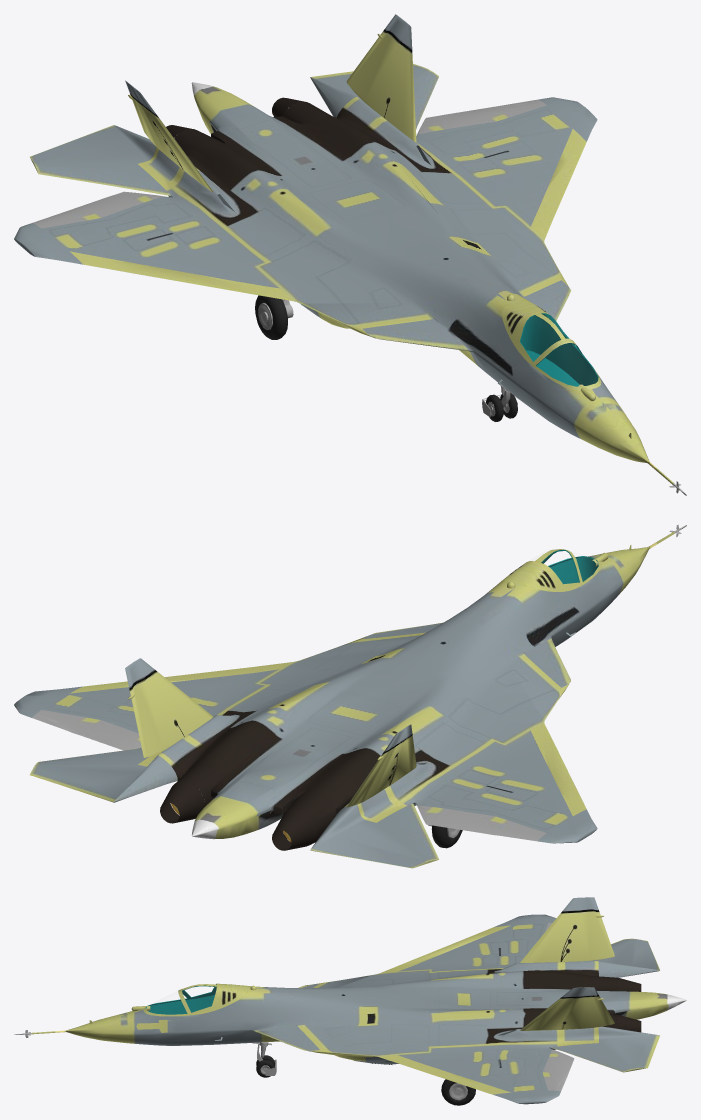
File: fighter_su57.glb
The picture shows the model from 3 angles, top to bottom: view 1: azimuth 30°, elevation 25°; view 2: azimuth 150°, elevation 25°; view 3: azimuth 270°, elevation 25°; orthographic projection. The views are drawn at different scales.
Parts seen in each view (by area): view 1: fuselage; view 2: fuselage; view 3: fuselage.
Part boxes in pixels (bbox=[...]): fuselage: bbox=[14, 14, 686, 495]; fuselage: bbox=[14, 524, 686, 868]; fuselage: bbox=[14, 897, 686, 1105].
Size of the model in its own units: 13 by 4.34 by 19.8.
6 materials, 3 textured.
